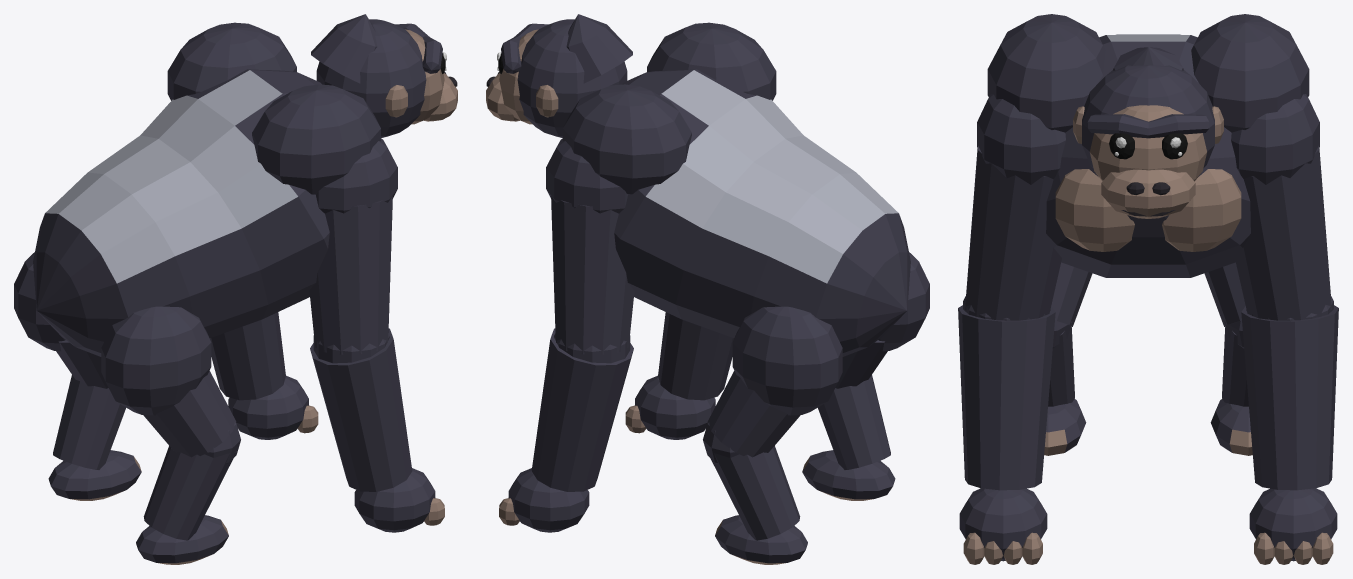
File: gorilla.glb
3 renders of one model, left to right at view 1: azimuth 30°, elevation 25°; view 2: azimuth 150°, elevation 25°; view 3: azimuth 270°, elevation 25°, orthographic. The views are drawn at different scales.
Parts seen in each view (by area): view 1: body, leg_fr, leg_br, head, leg_bl, leg_fl; view 2: body, leg_fl, leg_bl, head, leg_br, leg_fr; view 3: body, leg_fr, leg_fl, head, leg_bl, leg_br.
Part boxes in pixels (left/top/right/bottom): body: left=33, top=22, right=380, bottom=356; leg_fr: left=309, top=138, right=444, bottom=532; leg_br: left=101, top=306, right=240, bottom=564; head: left=311, top=14, right=457, bottom=137; leg_bl: left=14, top=252, right=141, bottom=500; leg_fl: left=210, top=312, right=318, bottom=439; body: left=563, top=22, right=910, bottom=356; leg_fl: left=499, top=138, right=634, bottom=532; leg_bl: left=703, top=306, right=842, bottom=564; head: left=486, top=14, right=632, bottom=137; leg_br: left=802, top=252, right=929, bottom=500; leg_fr: left=625, top=312, right=733, bottom=439; body: left=987, top=14, right=1309, bottom=277; leg_fr: left=958, top=94, right=1065, bottom=564; leg_fl: left=1231, top=94, right=1338, bottom=564; head: left=1073, top=47, right=1223, bottom=218; leg_bl: left=1204, top=262, right=1252, bottom=455; leg_br: left=1044, top=262, right=1092, bottom=455.
Size of the model in its own units: 1.59 by 1.67 by 1.1.
